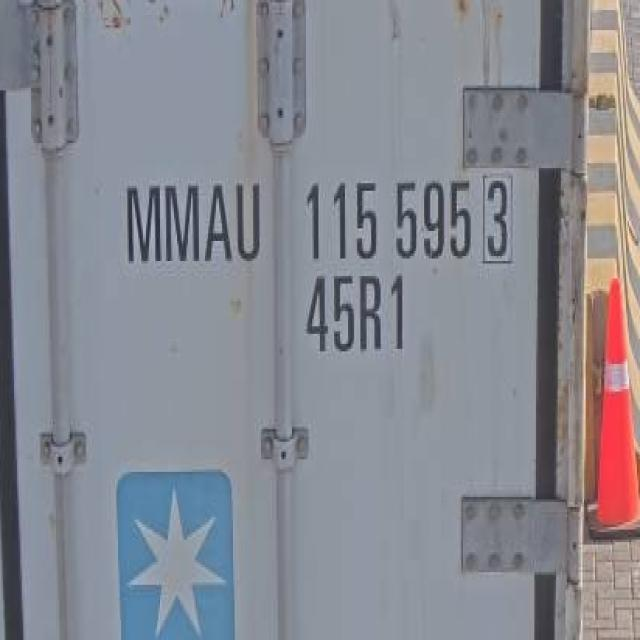dv: (477, 167, 520, 268)
owner: (117, 168, 270, 279)
serial: (302, 167, 474, 267)
size: (302, 268, 413, 365)
